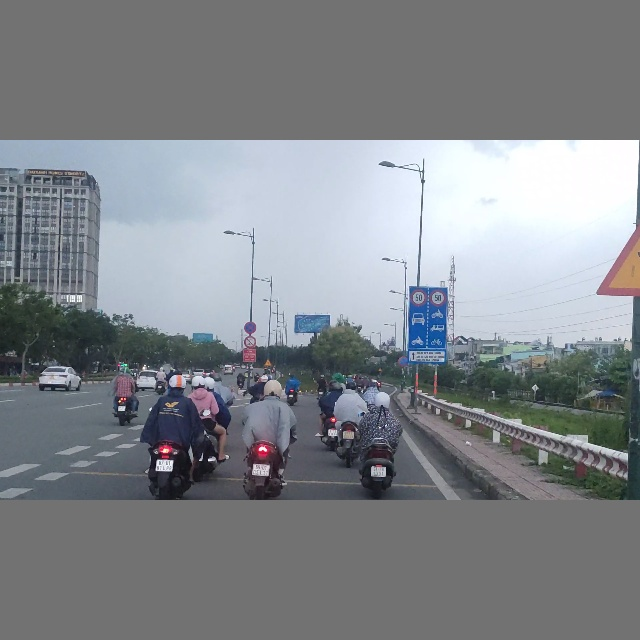P.111: (244, 336, 256, 348)
P.127*50: (409, 289, 427, 307), (429, 289, 446, 307)
P.130: (243, 321, 257, 334)
P.131a: (398, 356, 408, 367)
W.201a: (264, 358, 272, 366)
